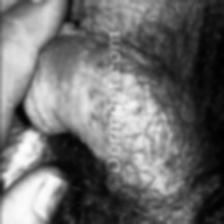Toxin: (85, 92, 115, 136), (93, 44, 123, 74)
